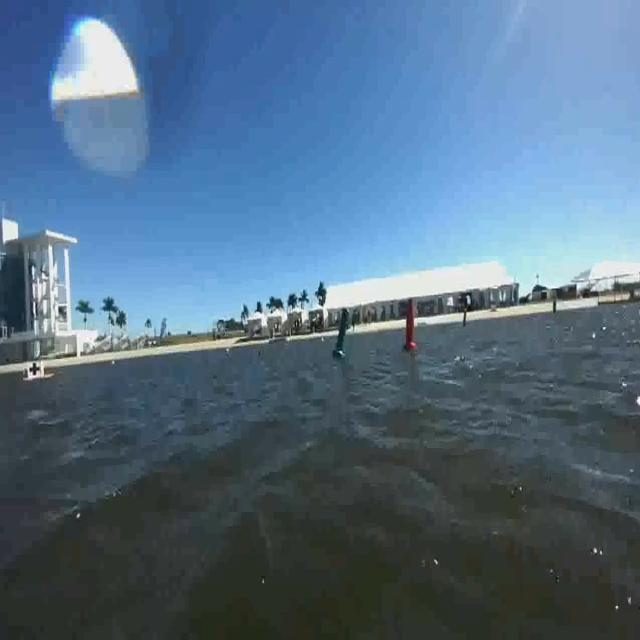green-column-buoy: (334, 307, 353, 360)
red-column-buoy: (402, 300, 420, 350)
